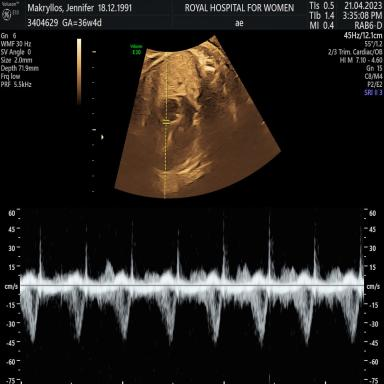Ultrasound-Waves: (23, 208, 360, 384)
